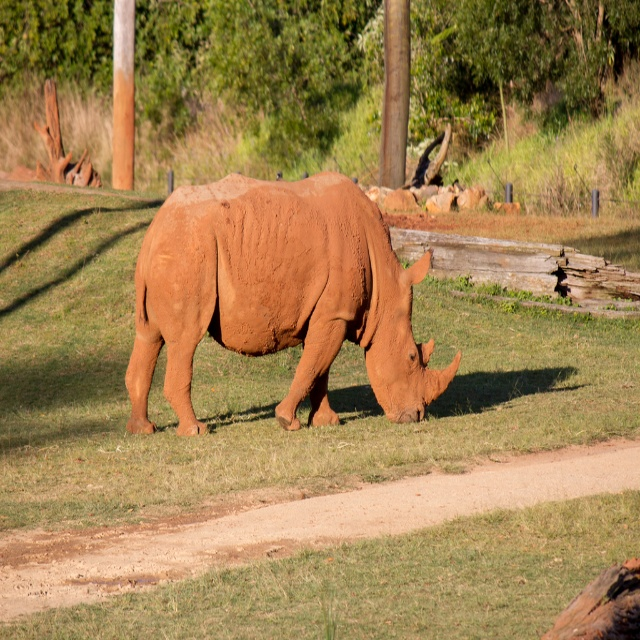Rhinoceros: (120, 166, 467, 440)
